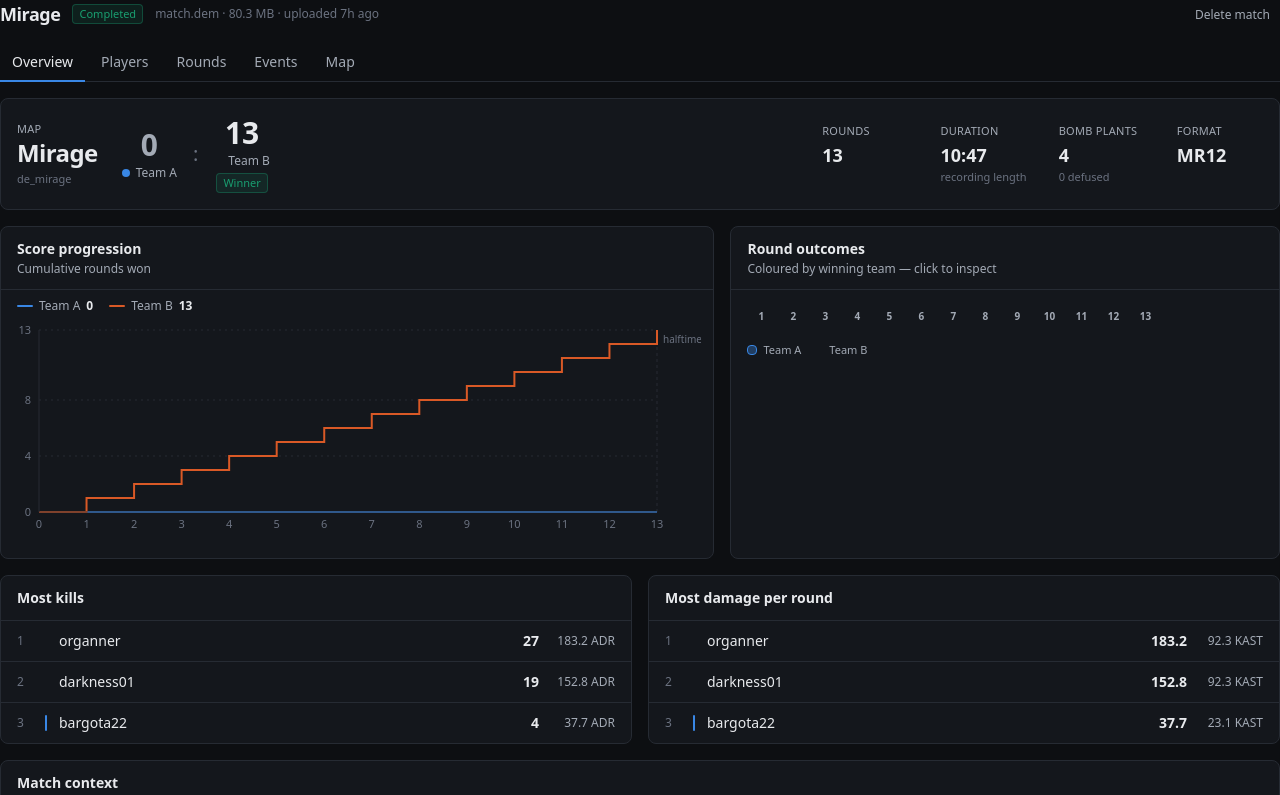
Test: MatchPage › switches tabs and loads the scoreboard
The image size is (1280, 795).
Click the tab "players": (125, 63) [89,44,161,82]
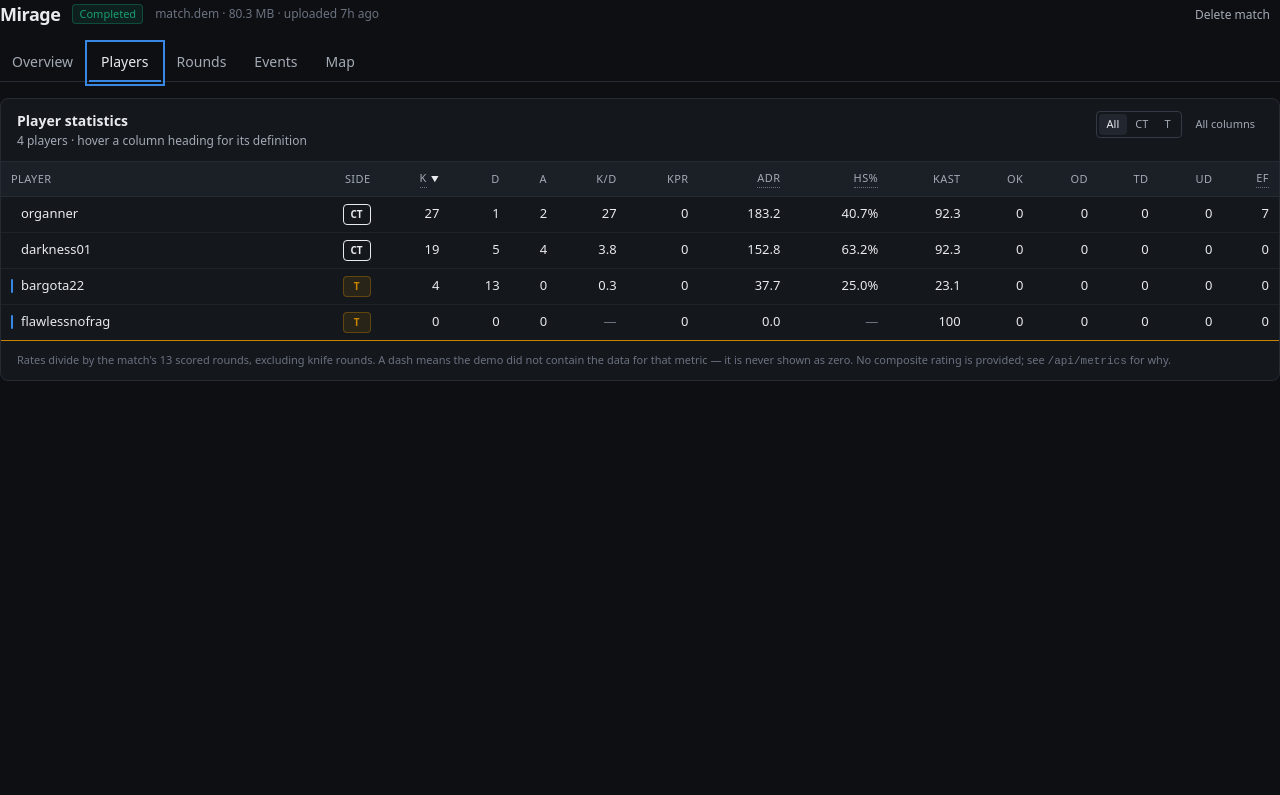
Check: the text "organner" is shown, box [21,204,78,224]
Check: the heading "Player statistics" is shown, box [17,111,128,130]
